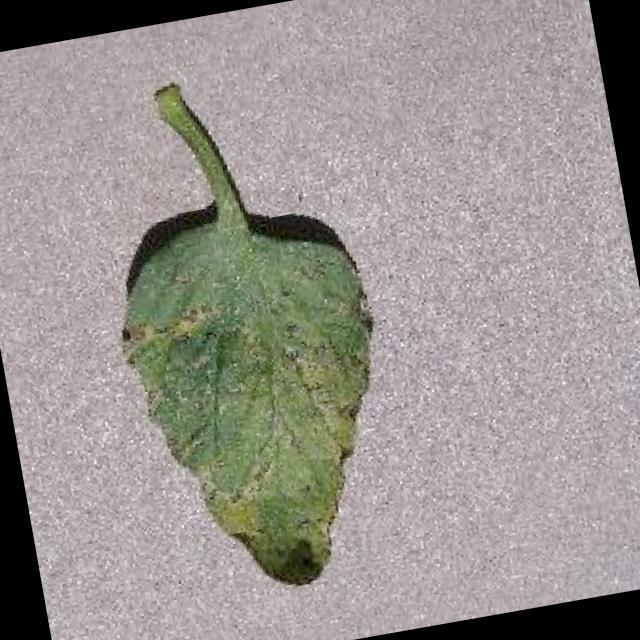Tomato Septoria spot leaf: (106, 201, 418, 609)
